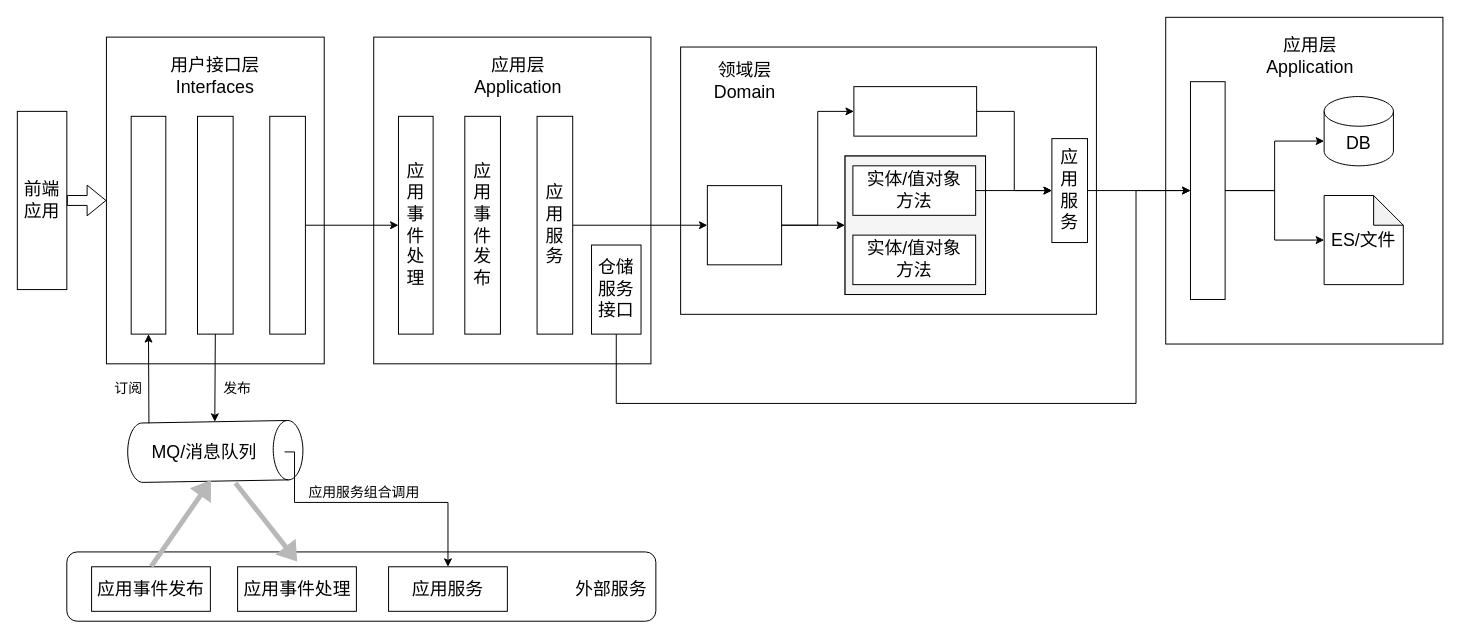
The diagram is 1460 pixels wide and 639 high, and some of its shapes have lost their labels. The shapes that lost their labels are listed below. From the top down, each one's box as (x1, y1, x2, y2) in pixels, then its label:
(853, 86, 977, 136): 实体/值对象
(1189, 81, 1225, 299): 仓储服务实现
(130, 115, 166, 334): 数据装配
(197, 115, 233, 334): 数据传输对象 D T O
(269, 115, 305, 334): 门面接口 F A C A D E
(706, 185, 782, 265): 领域服务
